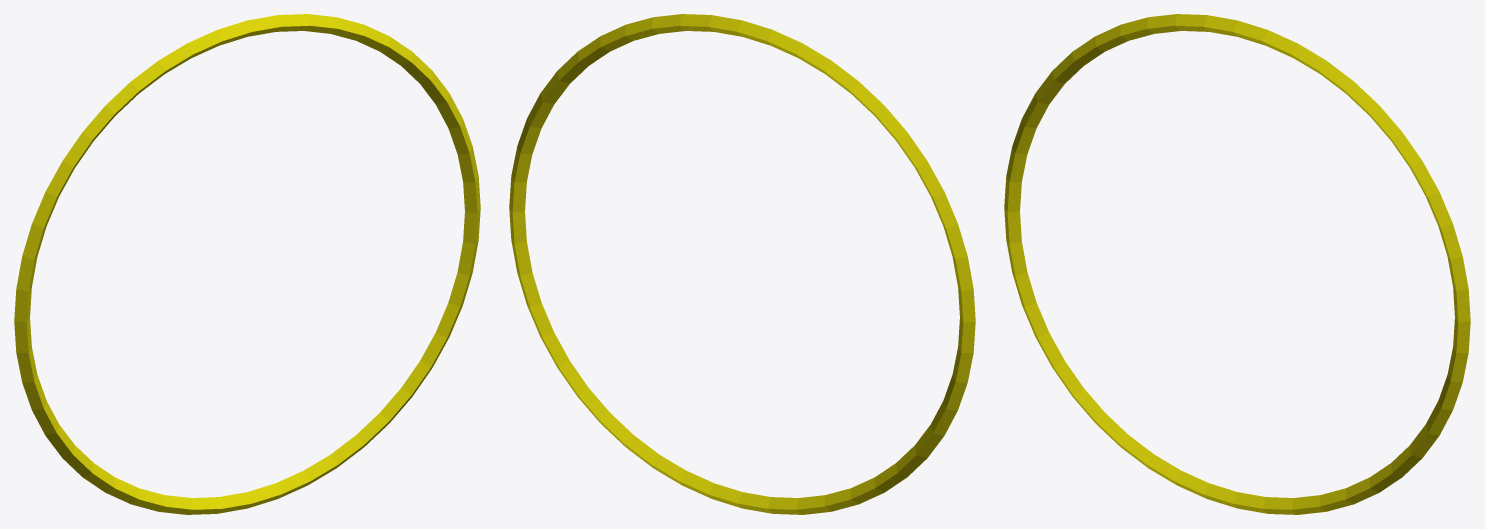
File: ring_fx.glb
3 views of the same model, side by side, from view 1: azimuth 30°, elevation 25°; view 2: azimuth 150°, elevation 25°; view 3: azimuth 330°, elevation 25° (orthographic).
Visible parts, largest first — view 1: ring_fx; view 2: ring_fx; view 3: ring_fx.
Boxes of the visible parts, x1=… form: ring_fx: x1=14, y1=14, x2=480, y2=514; ring_fx: x1=509, y1=14, x2=975, y2=514; ring_fx: x1=1004, y1=14, x2=1470, y2=514.
Size of the model in its own units: 2.07 by 2.07 by 0.07.
